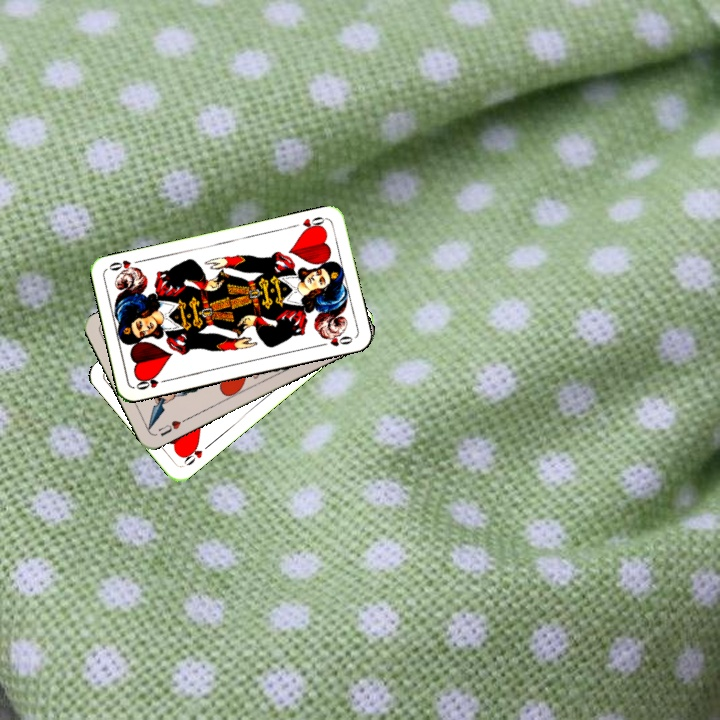HO: (178, 439, 213, 469), (132, 371, 172, 393), (298, 213, 328, 235)
HU: (154, 414, 190, 439)
